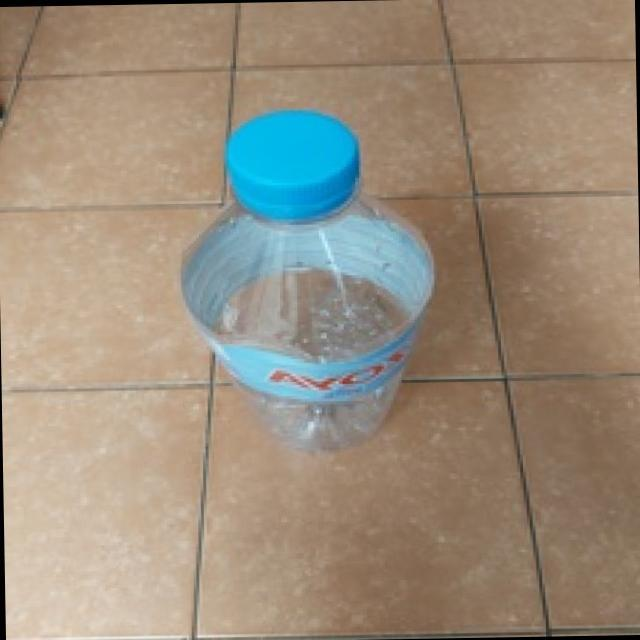good: (186, 83, 453, 469)
